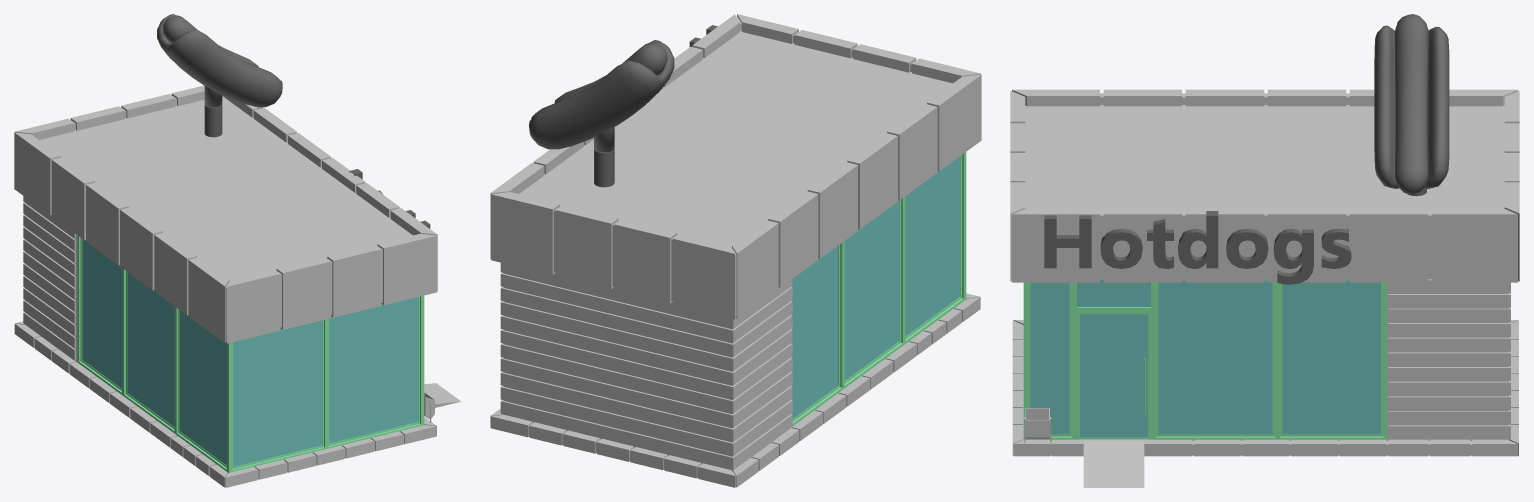
The model's file is Hotdog.fbx.
The picture shows the model from 3 angles, left to right: view 1: azimuth 30°, elevation 25°; view 2: azimuth 150°, elevation 25°; view 3: azimuth 270°, elevation 25°; orthographic projection. The views are drawn at different scales.
Visible parts, largest first — view 1: Caffee_Hotdogs, Hotdog; view 2: Caffee_Hotdogs, Hotdog; view 3: Caffee_Hotdogs, Hotdog, Caffee_door.
Boxes of the visible parts, x1,y1,x2,y2 form: Caffee_Hotdogs: [14, 85, 460, 487]; Hotdog: [157, 14, 282, 107]; Caffee_Hotdogs: [490, 14, 981, 487]; Hotdog: [529, 40, 674, 152]; Caffee_Hotdogs: [1010, 89, 1519, 487]; Hotdog: [1374, 14, 1449, 194]; Caffee_door: [1079, 314, 1148, 439].
Size of the model in its own units: 608 by 699 by 839.
